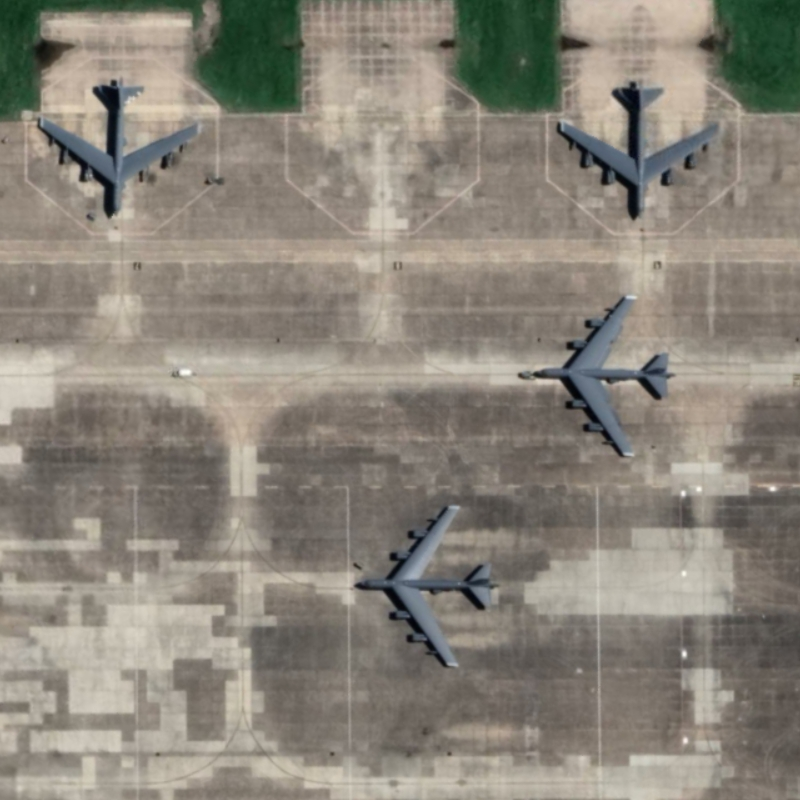A8: (349, 495, 498, 675), (552, 75, 723, 227), (526, 290, 674, 462), (37, 72, 202, 223)
